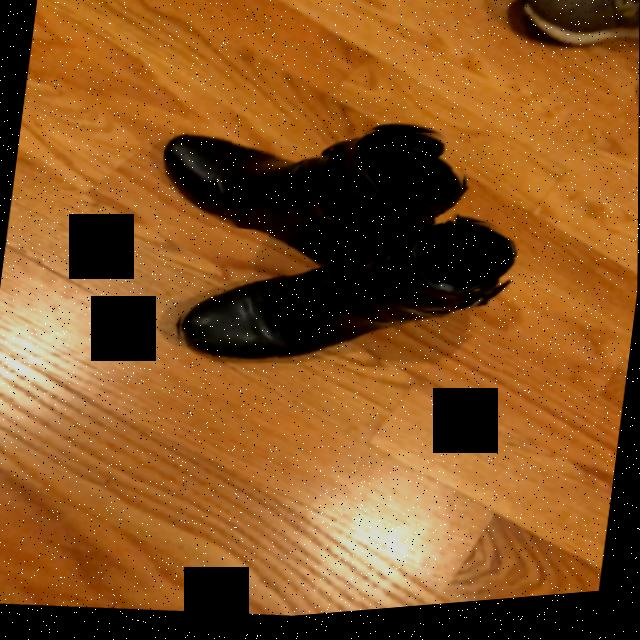shoe: (179, 228, 518, 367), (163, 135, 462, 236)
